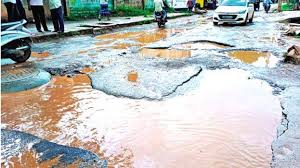potholes: (170, 33, 241, 61)
